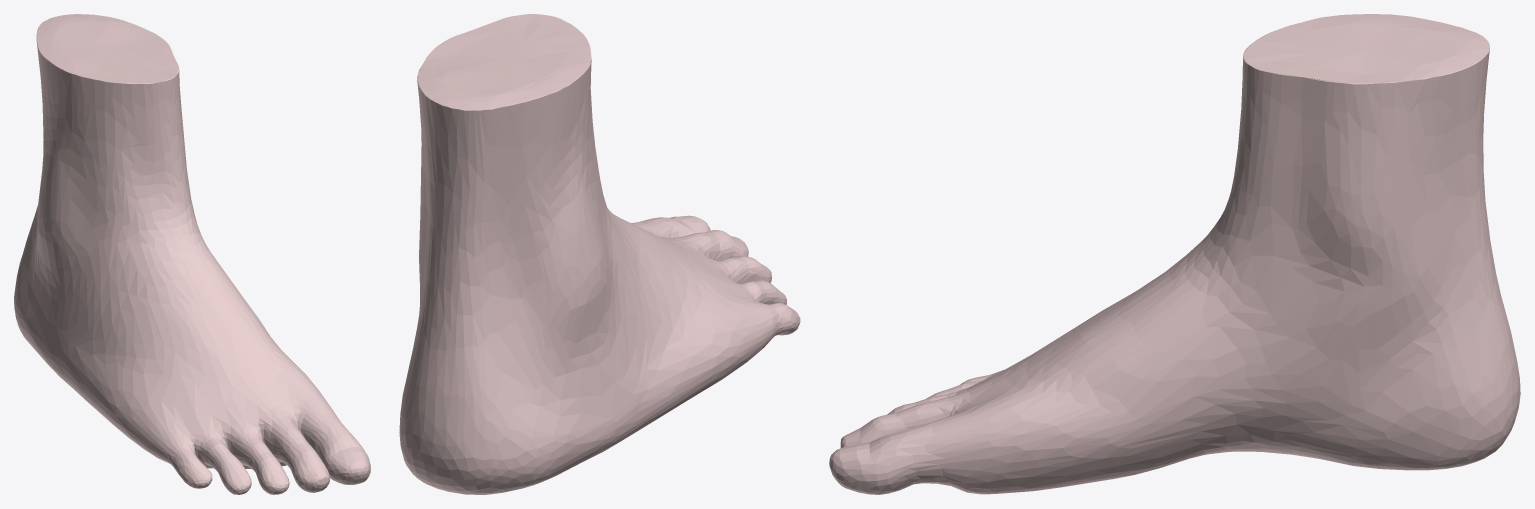
File: Feet.fbx
The picture shows the model from 3 angles, left to right: view 1: azimuth 30°, elevation 25°; view 2: azimuth 150°, elevation 25°; view 3: azimuth 270°, elevation 25°; orthographic projection. The views are drawn at different scales.
Parts seen in each view (by area): view 1: 11536_foot_V3; view 2: 11536_foot_V3; view 3: 11536_foot_V3.
Boxes of the visible parts, left/top/right/bottom form: 11536_foot_V3: left=14, top=14, right=370, bottom=494; 11536_foot_V3: left=399, top=14, right=800, bottom=494; 11536_foot_V3: left=829, top=14, right=1520, bottom=494.
Bounding box in the file's own units: 4.39 × 8.2 × 12.39.
